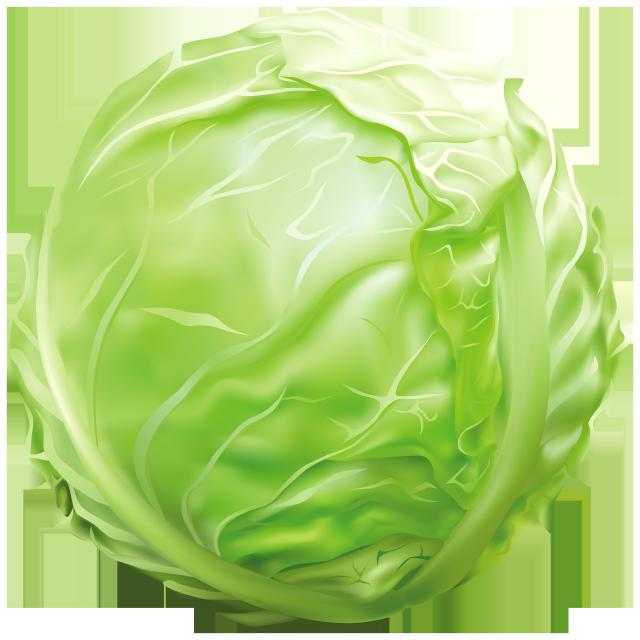cabbage: (8, 4, 630, 632)
